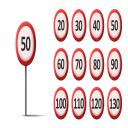speed_limit_100: (52, 85, 70, 123)
speed_limit_110: (71, 83, 87, 123)
speed_limit_120: (88, 84, 105, 121)
speed_limit_20: (53, 6, 69, 43)
speed_limit_30: (71, 6, 88, 44)
speed_limit_40: (89, 7, 105, 43)
speed_limit_50: (13, 18, 39, 68), (106, 7, 124, 44)
speed_limit_60: (52, 46, 69, 82)
speed_limit_70: (71, 45, 87, 82)
speed_limit_80: (89, 46, 104, 82)
speed_limit_90: (106, 46, 124, 82)
